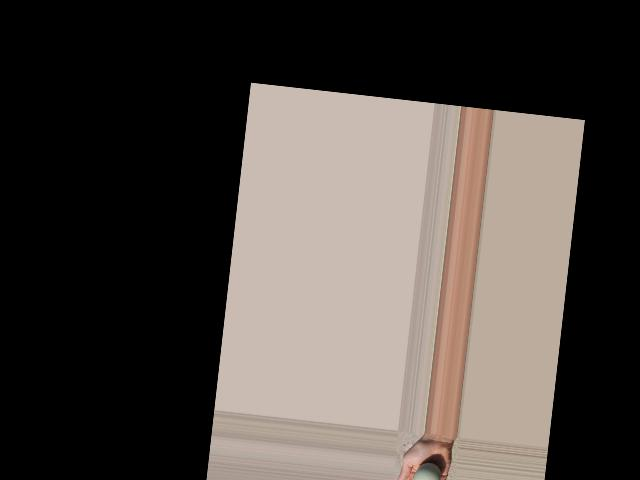egg: (412, 462, 442, 480)
